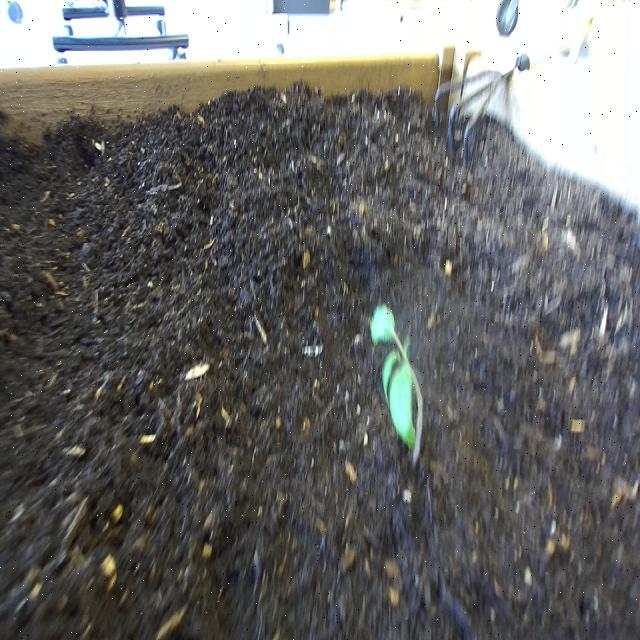Unhealthy: (366, 298, 429, 472)
